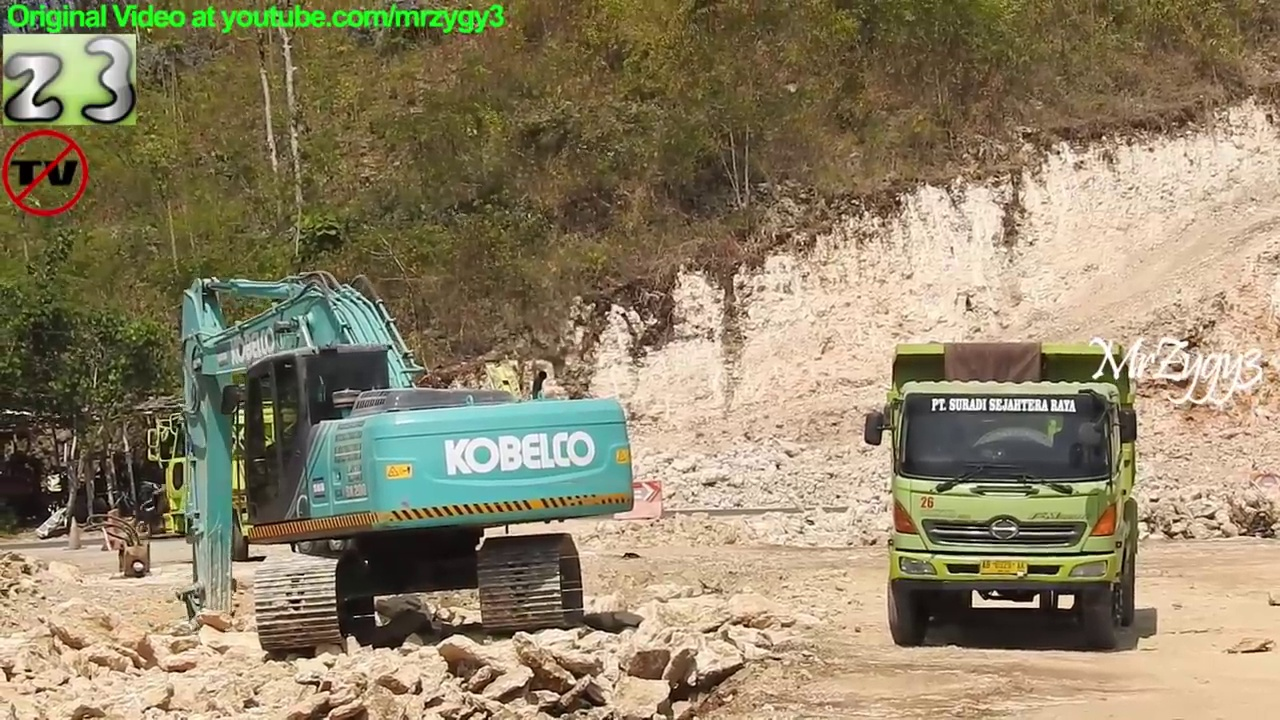excavator: (172, 269, 643, 667)
truck: (861, 337, 1147, 654), (138, 364, 553, 561)
